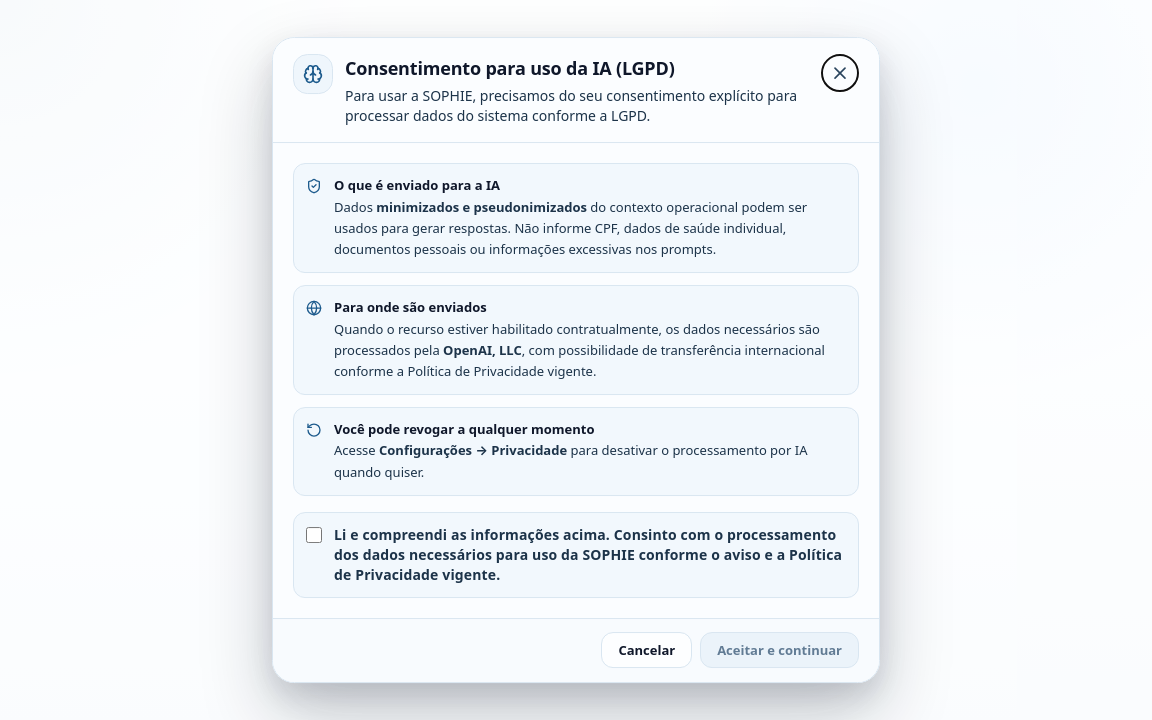
Test: AiConsentModal › renderiza como diálogo acessível e exige confirmação explícita
Expected: the dialog "Consentimento para uso da IA" is shown, [272, 37, 880, 683]
Expected: the button "Aceitar e continuar" is disabled, [700, 632, 859, 668]
Click the checkbox at (314, 535), box [306, 527, 322, 543]
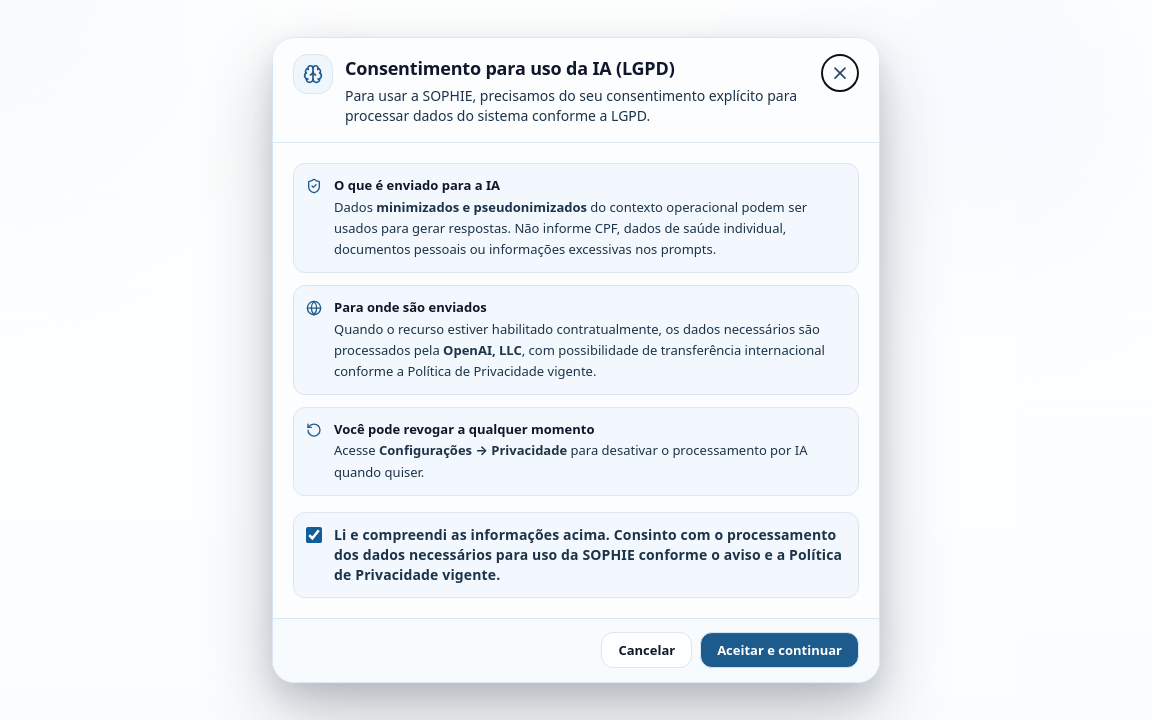
Expected: the button "Aceitar e continuar" is enabled, [700, 632, 859, 668]
